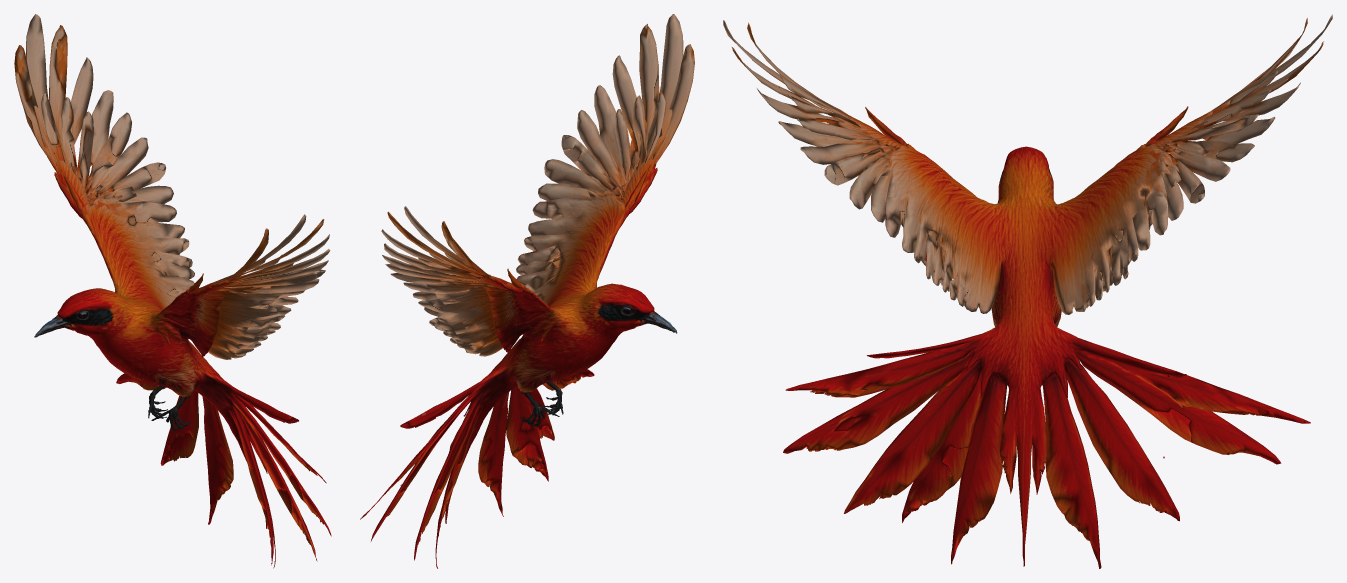
File: supplied-northern-cardinal.glb
3 renders of one model, left to right at view 1: azimuth 30°, elevation 25°; view 2: azimuth 150°, elevation 25°; view 3: azimuth 270°, elevation 25°, orthographic. The views are drawn at different scales.
Visible parts, largest first — view 1: Model_0; view 2: Model_0; view 3: Model_0.
Part boxes in pixels (box(x1,y1,x2,y2)): Model_0: box(14, 14, 331, 568); Model_0: box(360, 14, 694, 568); Model_0: box(723, 14, 1332, 568).
Bounding box in the file's own units: 0.499 × 0.9335 × 1.
1 material, 1 textured.
